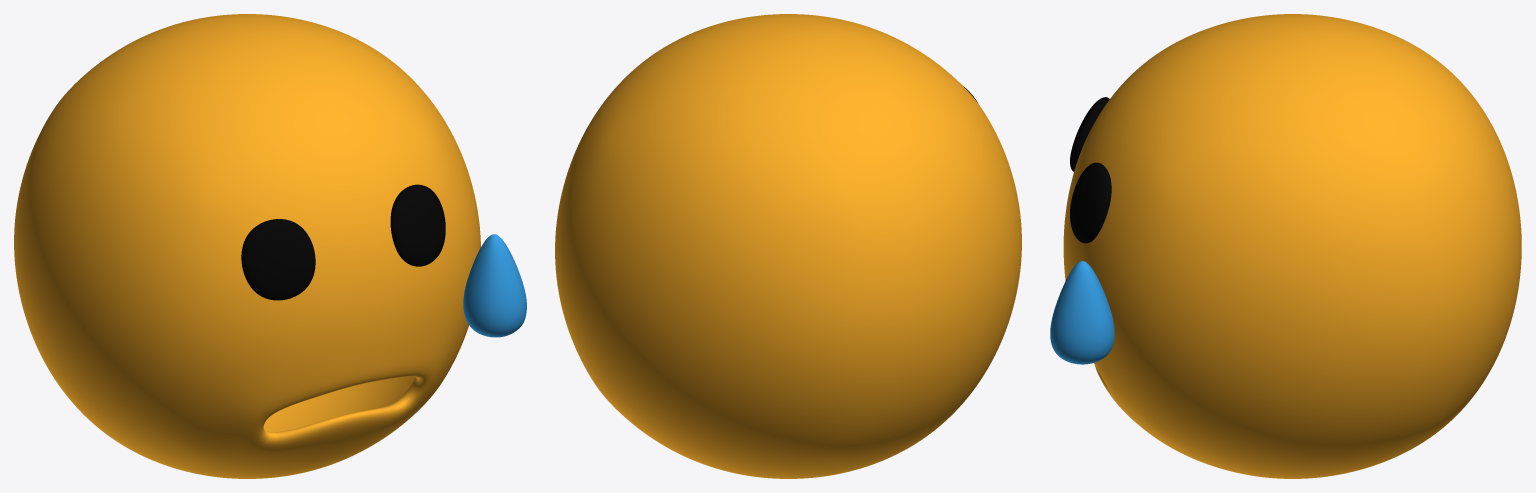
File: Nervous Face.glb
The picture shows the model from 3 angles, left to right: view 1: azimuth 30°, elevation 25°; view 2: azimuth 150°, elevation 25°; view 3: azimuth 270°, elevation 25°; orthographic projection.
Visible parts, largest first — view 1: Cube.002_Cube.001, Cube_Cube.002, Vert; view 2: Cube.002_Cube.001; view 3: Cube.002_Cube.001, Vert, Cube_Cube.002.
Boxes of the visible parts, left/top/right/bottom form: Cube.002_Cube.001: left=14, top=14, right=480, bottom=478; Cube_Cube.002: left=241, top=184, right=445, bottom=300; Vert: left=463, top=234, right=526, bottom=337; Cube.002_Cube.001: left=555, top=14, right=1021, bottom=478; Cube.002_Cube.001: left=1063, top=14, right=1521, bottom=478; Vert: left=1050, top=261, right=1114, bottom=364; Cube_Cube.002: left=1070, top=97, right=1111, bottom=243.
Bounding box in the file's own units: 1.66 × 1.66 × 1.71.
